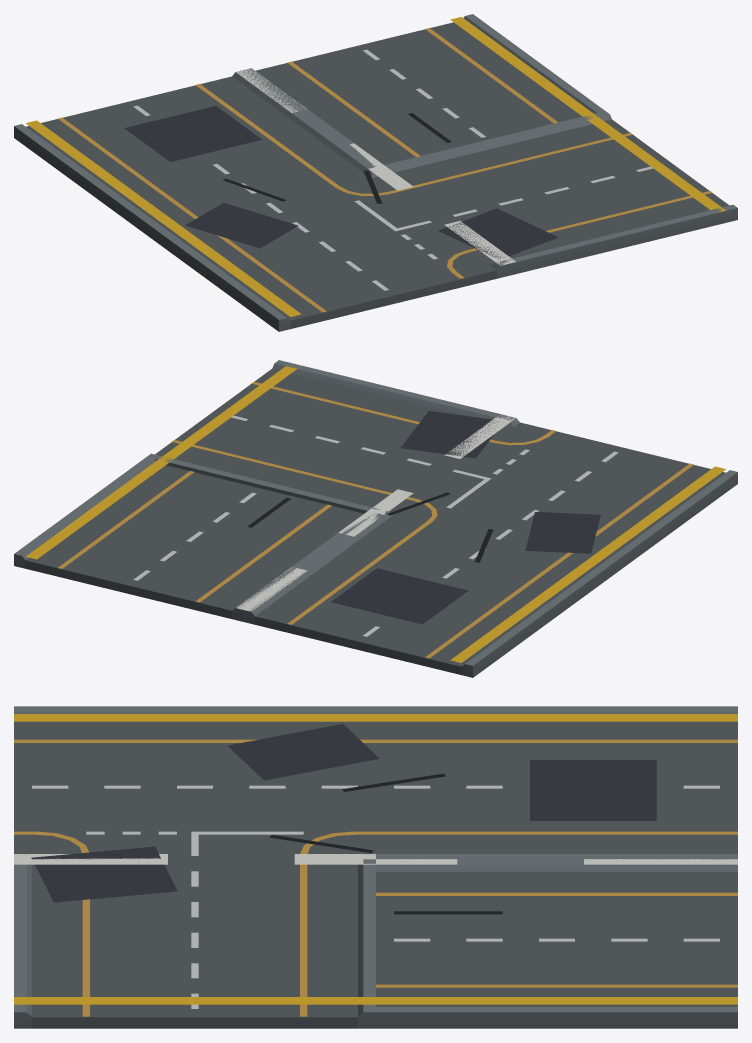
Rendered from floor_b.fbx.
3 views of the same model, one above another, from view 1: azimuth 30°, elevation 25°; view 2: azimuth 150°, elevation 25°; view 3: azimuth 270°, elevation 25° (orthographic). The views are drawn at different scales.
Parts seen in each view (by area): view 1: floor_b; view 2: floor_b; view 3: floor_b.
Boxes of the visible parts, x1,y1,x2,y2 form: floor_b: (14, 14, 737, 331); floor_b: (14, 360, 737, 677); floor_b: (14, 706, 737, 1028).
Size of the model in its own units: 4 by 0.1 by 4.
